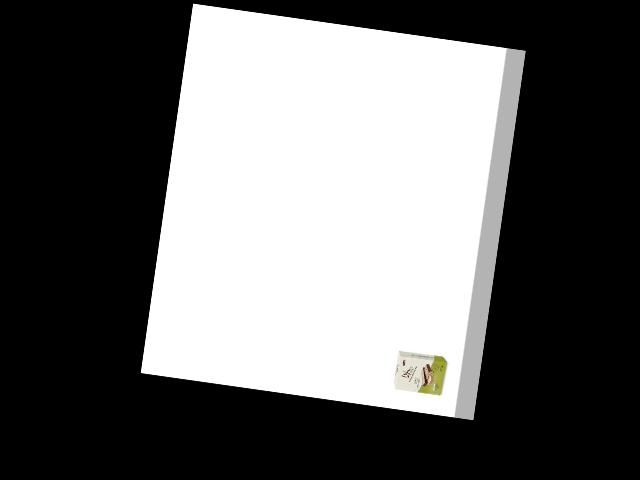chocolate: (391, 347, 450, 400)
